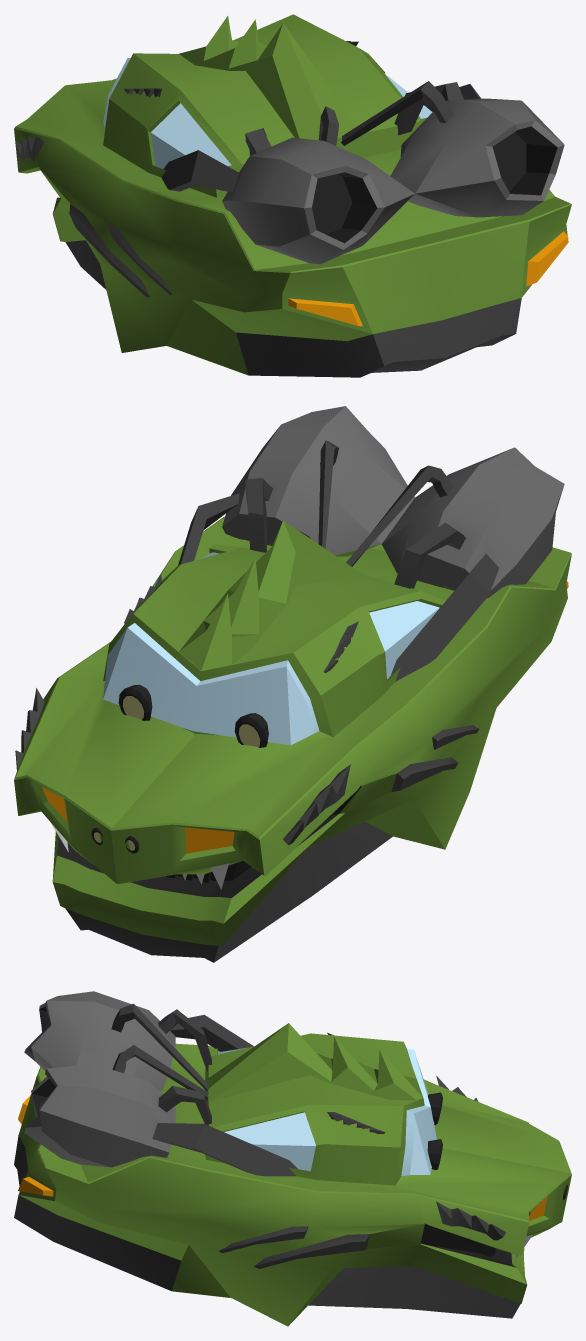
Rendered from dragon_body.glb.
3 views of the same model, one above another, from view 1: azimuth 30°, elevation 25°; view 2: azimuth 150°, elevation 25°; view 3: azimuth 270°, elevation 25° (orthographic). The views are drawn at different scales.
Visible parts, largest first — view 1: dragon; view 2: dragon; view 3: dragon.
Boxes of the visible parts, <box> form: dragon: <box>14,14,571,377</box>; dragon: <box>14,406,571,962</box>; dragon: <box>14,991,571,1326</box>.
Size of the model in its own units: 1.46 by 1.4 by 2.55.
Materials: 1 (1 with a texture image).
